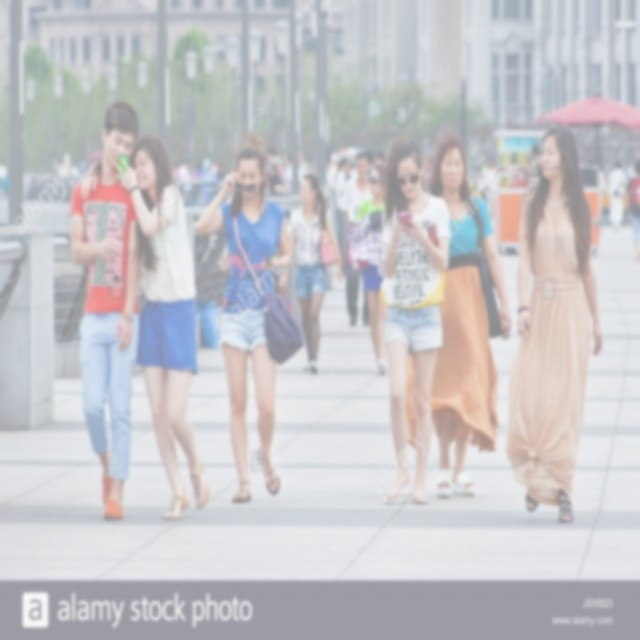pessoa: (192, 126, 307, 505), (504, 120, 604, 526), (114, 132, 213, 524), (406, 132, 512, 498), (66, 99, 146, 522), (378, 134, 453, 508), (282, 172, 344, 376), (352, 164, 390, 376), (340, 150, 375, 327), (588, 160, 628, 240), (172, 154, 223, 210), (266, 144, 316, 200), (499, 144, 541, 195), (50, 148, 104, 184), (333, 156, 351, 248), (626, 156, 640, 262), (477, 151, 497, 220), (325, 148, 338, 192), (420, 156, 434, 196), (498, 247, 522, 258), (627, 157, 638, 180), (375, 150, 387, 170)
